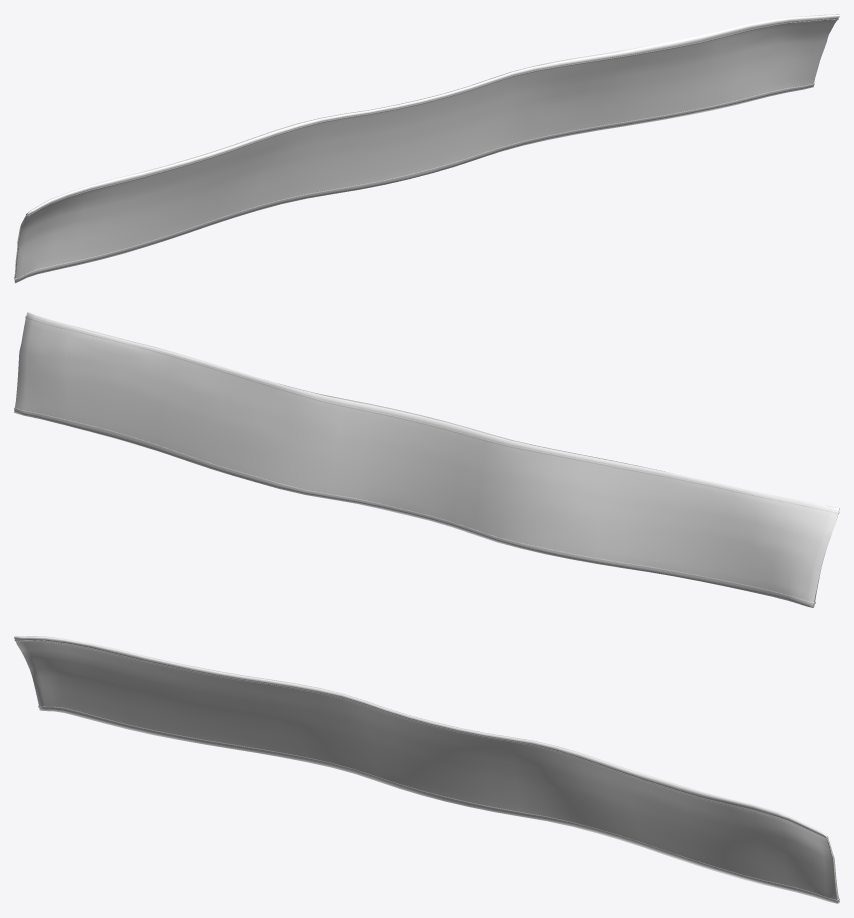
Rendered from Jac_Flic_BEHIND_V1.glb.
3 renders of one model, top to bottom at view 1: azimuth 30°, elevation 25°; view 2: azimuth 150°, elevation 25°; view 3: azimuth 330°, elevation 25°, orthographic.
Visible parts, largest first — view 1: Jac_Flic_BEHIND1.001, Jac_Rope_Flic_BEHIND1.001; view 2: Jac_Flic_BEHIND1.001, Jac_Rope_Flic_BEHIND1.001; view 3: Jac_Flic_BEHIND1.001, Jac_Rope_Flic_BEHIND1.001.
Part boxes in pixels (x1,y1,x2,y2): Jac_Flic_BEHIND1.001: (14,14,839,283); Jac_Rope_Flic_BEHIND1.001: (14,18,838,280); Jac_Flic_BEHIND1.001: (14,312,839,607); Jac_Rope_Flic_BEHIND1.001: (14,316,839,604); Jac_Flic_BEHIND1.001: (14,636,839,903); Jac_Rope_Flic_BEHIND1.001: (14,640,839,901).
Bounding box in the file's own units: 0.7765 × 0.084 × 0.0572.
Materials: 2 (2 with a texture image).
